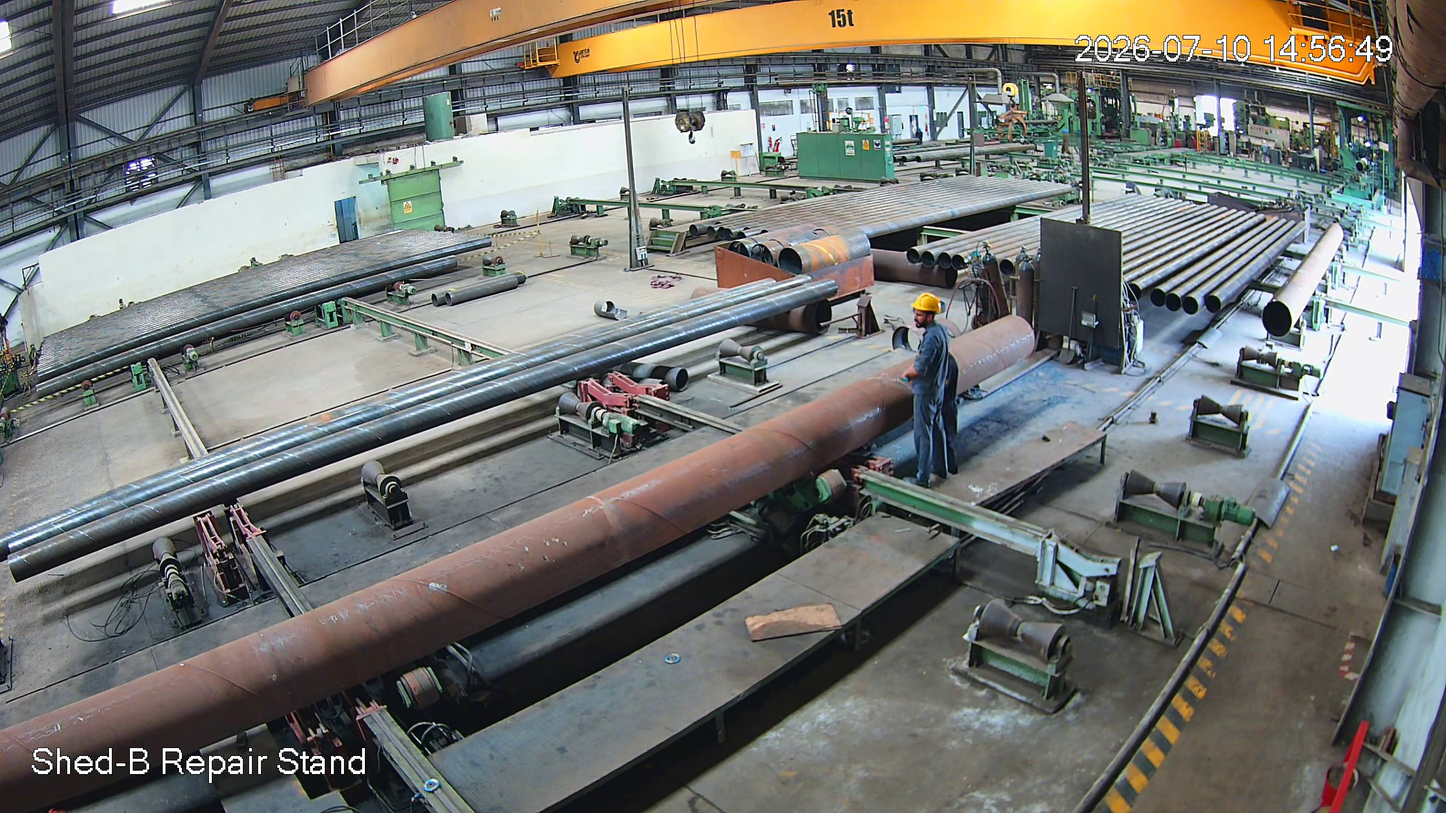Helmet: (906, 288, 958, 334)
Person: (901, 293, 957, 469)
